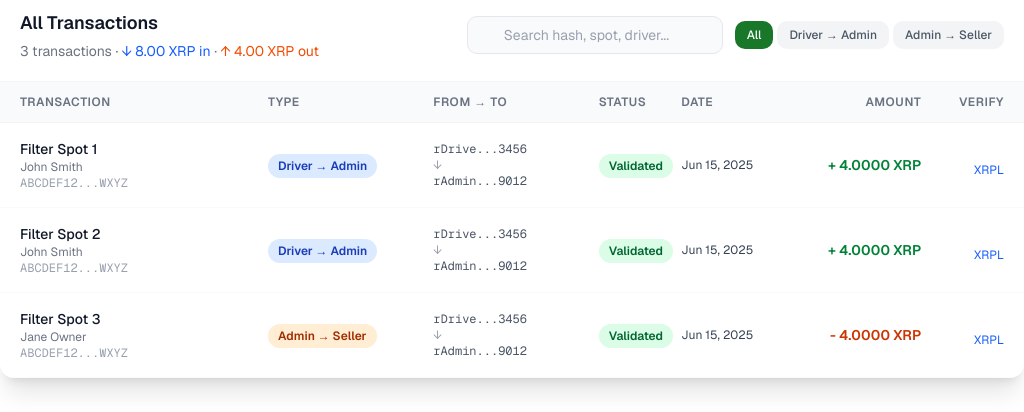
Test: TransactionTable Component › Type Filter Buttons › clicking All restores all transactions
The width and height of the screenshot is (1024, 412).
Check: the text "Filter Spot 1" is shown, box top-left (20, 140), bottom-right (97, 158)
Click the button "Driver → Admin" at (833, 35), box top-left (777, 21), bottom-right (889, 49)
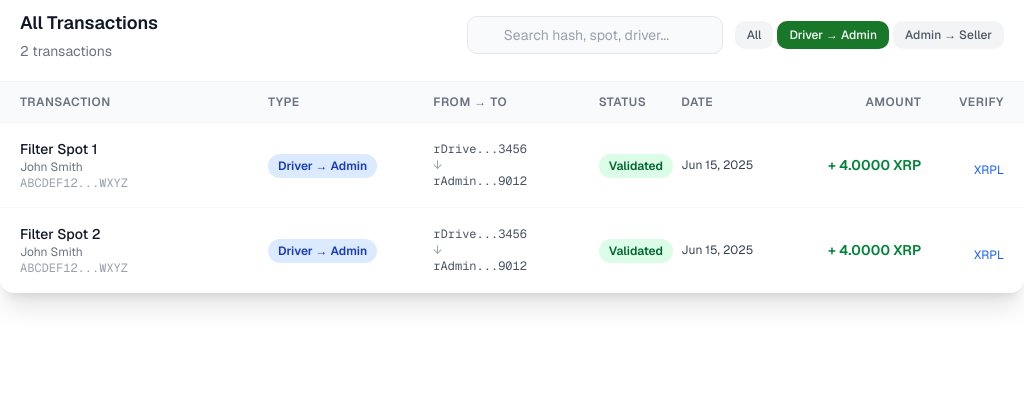
Check: the text "Filter Spot 3" is gone
// Click All
Click the button "All" at (754, 35), box top-left (735, 21), bottom-right (773, 49)
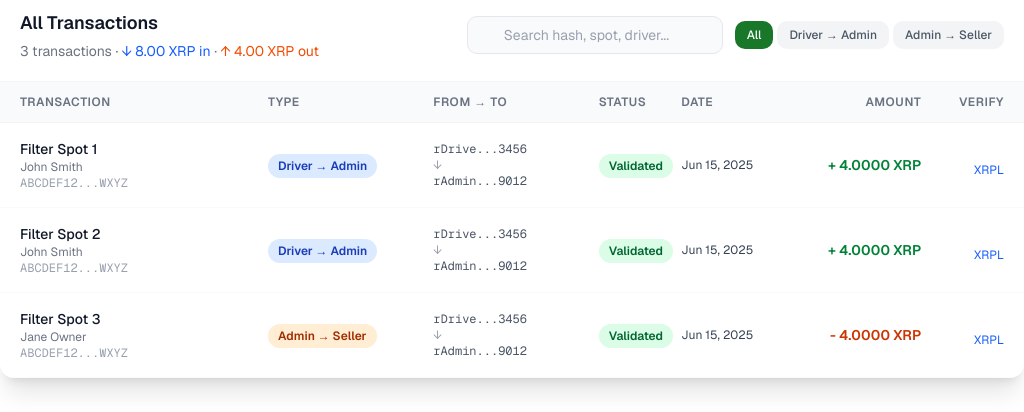
Check: the text "Filter Spot 1" is shown, box top-left (20, 140), bottom-right (97, 158)
Check: the text "Filter Spot 3" is shown, box top-left (20, 310), bottom-right (100, 328)
